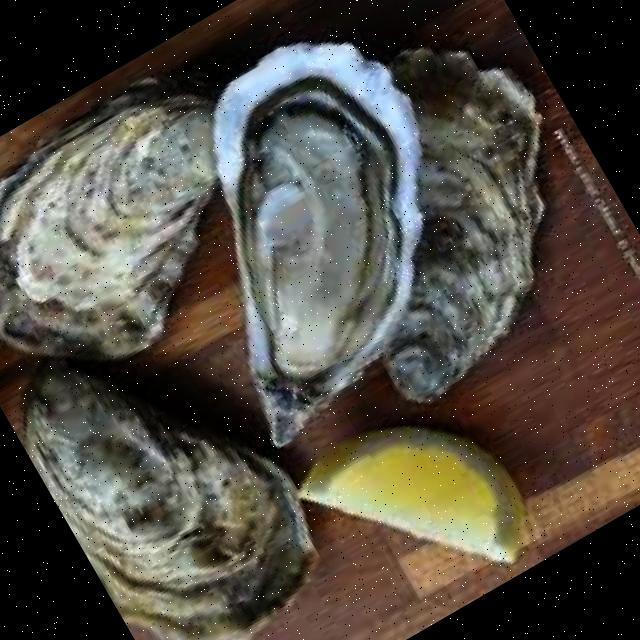Oyster-Closed: (14, 359, 316, 640), (312, 47, 546, 405), (0, 89, 218, 365)
Oyster-Open: (214, 48, 421, 446)
